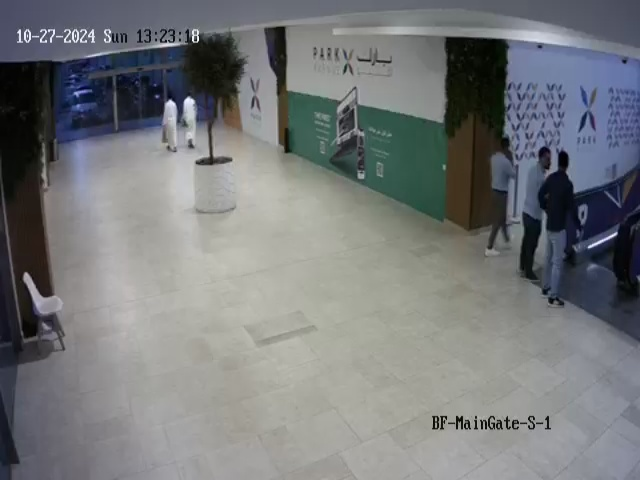male: (538, 150, 581, 308), (518, 147, 552, 281), (484, 136, 518, 257), (161, 94, 178, 152), (181, 91, 197, 149)
